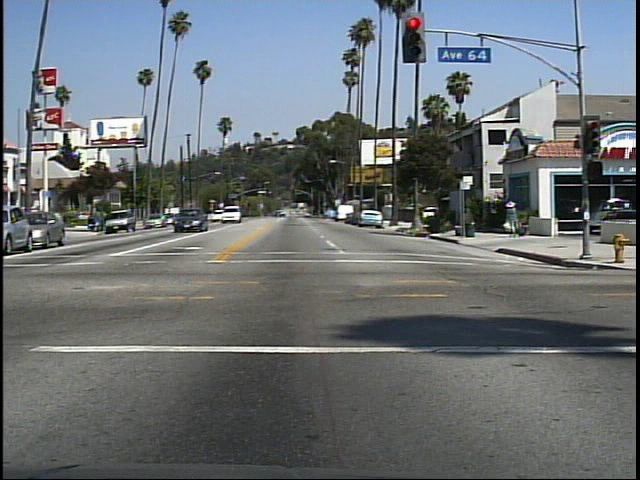person: (500, 194, 526, 242)
